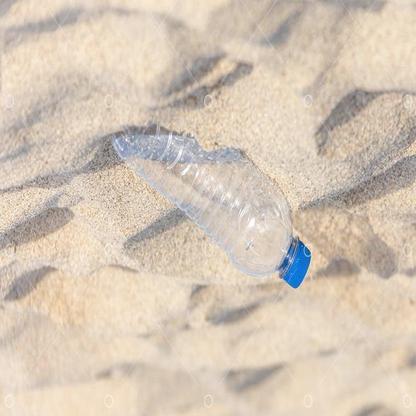plastic bottle: (113, 123, 312, 291)
